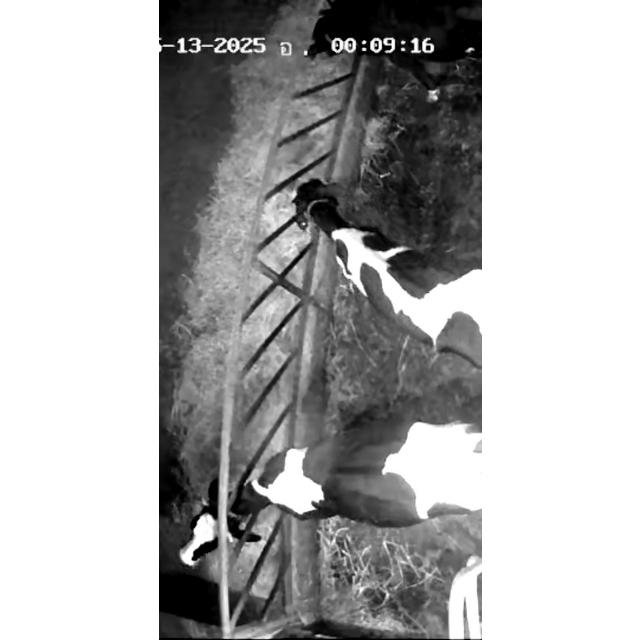eat: (171, 433, 383, 577), (212, 154, 398, 294)
